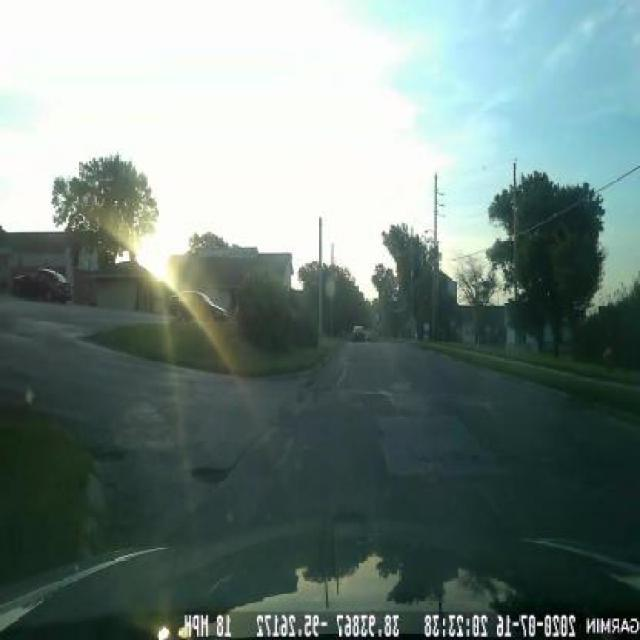pothole: (182, 450, 240, 495)
